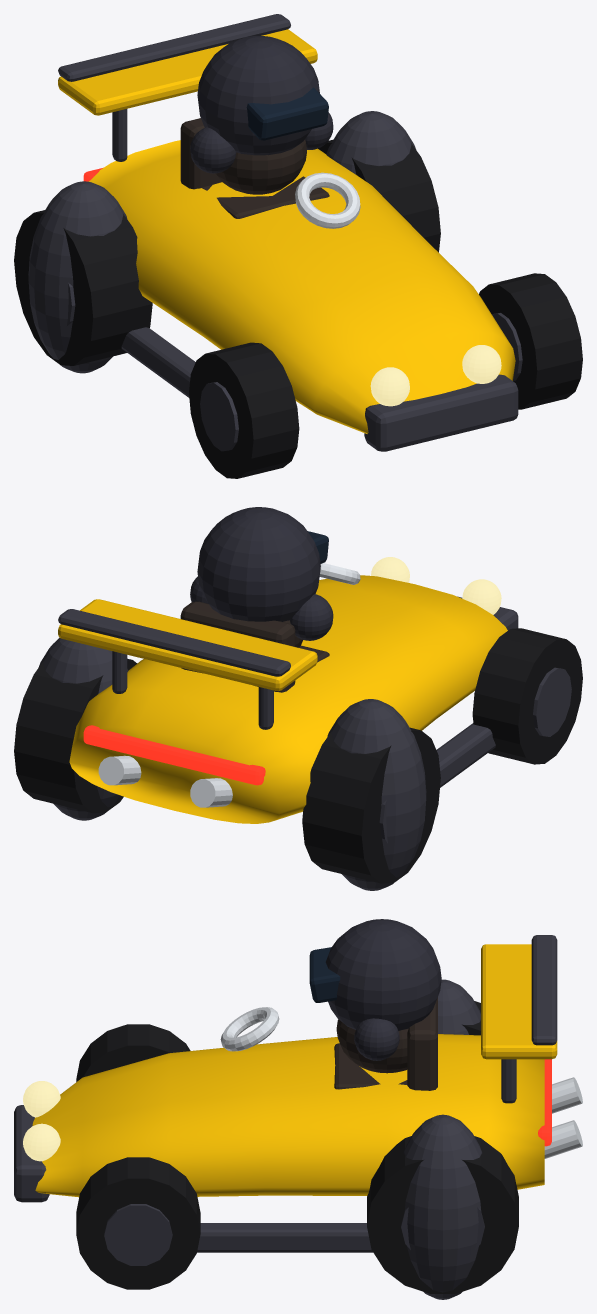
Rendered from kart4.glb.
3 views of the same model, one above another, from view 1: azimuth 30°, elevation 25°; view 2: azimuth 150°, elevation 25°; view 3: azimuth 270°, elevation 25° (orthographic). The views are drawn at different scales.
Parts seen in each view (by area): view 1: Body, TireRR, TireFR, Head, TireFL, Fender.001, Bumper, SpoWing, SpoTop, TireRL, Fender, Torso (+11 smaller); view 2: Body, TireRR, Head, TireFR, TireRL, Fender.001, SpoWing, SpoTop, TailBar, Fender, SeatBack, HubFR (+9 smaller); view 3: Body, Fender, TireFL, TireRL, Head, SpoWing, Skirt, TireFR, HubFL, SpoTop, SeatBack, Bumper (+12 smaller).
Boxes of the visible parts, bbox=[...] form: Body: bbox=[88, 140, 515, 433]; TireRR: bbox=[14, 210, 152, 365]; TireFR: bbox=[189, 342, 299, 478]; Head: bbox=[197, 36, 319, 155]; TireFL: bbox=[479, 273, 582, 409]; Fender.001: bbox=[28, 181, 127, 373]; Bumper: bbox=[364, 374, 518, 451]; SpoWing: bbox=[58, 29, 317, 115]; SpoTop: bbox=[58, 14, 290, 81]; TireRL: bbox=[318, 140, 440, 252]; Fender: bbox=[326, 111, 416, 174]; Torso: bbox=[215, 139, 306, 194]; Body: bbox=[69, 575, 507, 823]; TireRR: bbox=[302, 727, 440, 883]; Head: bbox=[197, 507, 320, 621]; TireFR: bbox=[472, 628, 582, 764]; TireRL: bbox=[14, 658, 137, 813]; Fender.001: bbox=[327, 699, 426, 890]; SpoWing: bbox=[58, 599, 317, 690]; SpoTop: bbox=[58, 609, 290, 676]; TailBar: bbox=[83, 725, 265, 785]; Fender: bbox=[38, 637, 127, 820]; SeatBack: bbox=[180, 601, 295, 692]; HubFR: bbox=[533, 667, 571, 736]; Body: bbox=[32, 1034, 544, 1197]; Fender: bbox=[404, 1114, 481, 1299]; TireFL: bbox=[76, 1157, 200, 1289]; TireRL: bbox=[367, 1136, 518, 1293]; Head: bbox=[325, 919, 441, 1030]; SpoWing: bbox=[481, 944, 557, 1059]; Skirt: bbox=[197, 1223, 372, 1252]; TireFR: bbox=[76, 1024, 190, 1081]; HubFL: bbox=[104, 1204, 172, 1265]; SpoTop: bbox=[531, 935, 557, 1045]; SeatBack: bbox=[407, 997, 437, 1090]; Bumper: bbox=[14, 1105, 49, 1202].
Size of the model in its own units: 1.69 by 1.32 by 2.24.
